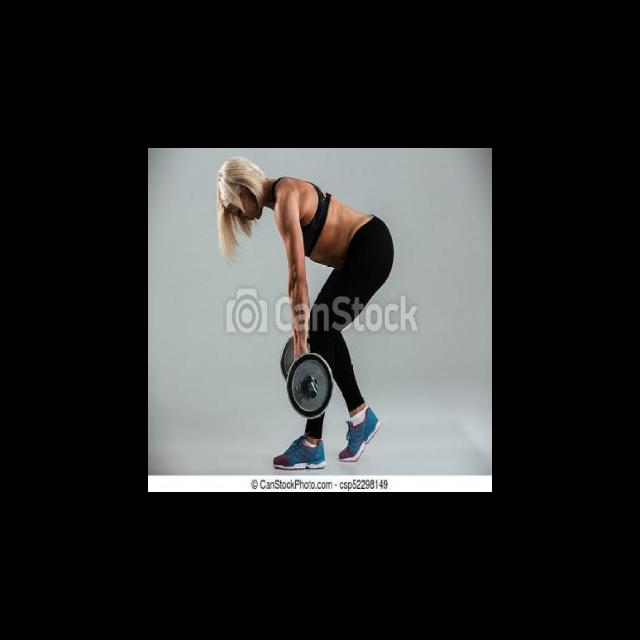barbell: (286, 351, 335, 421)
